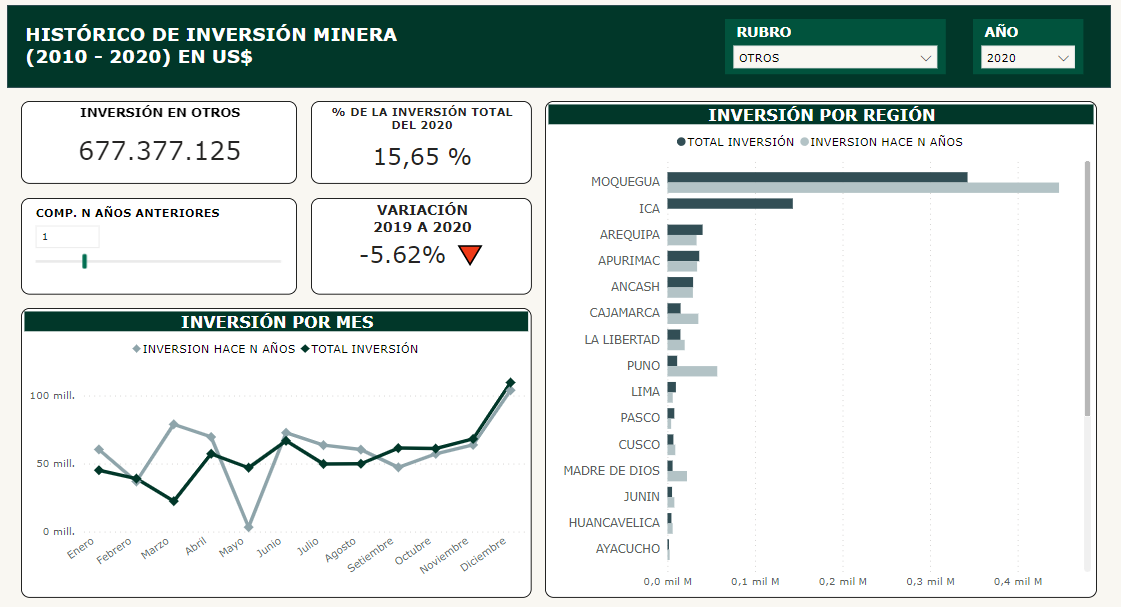

The page's visual inventory and layout, read from the dashboard file:
{"tool":"powerbi","page":{"name":"PRINCIPAL","canvas":[1280,720],"ordinal":0},"visuals":[{"type":"shape","box":[0,16,1280,96],"z":0},{"type":"textbox","box":[16,32,512,80],"z":1000},{"type":"slicer","fields":{"Values":["PARAMETRO_1.PARAMETRO_1"]},"box":[16,240,320,112],"z":2000},{"type":"slicer","fields":{"Values":["INVERSIONES.RUBRO"]},"box":[832,32,256,64],"z":3000},{"type":"lineChart","title":"INVERSIÓN POR MES","fields":{"Category":["CALENDARIO.Mes"],"Y":["MEDIDAS.INVERSION HACE N AÑOS","MEDIDAS.TOTAL INVERSIÓN"]},"box":[16,368,592,336],"z":4000},{"type":"slicer","fields":{"Values":["CALENDARIO.#Año"]},"box":[1120,32,128,64],"z":5000},{"type":"clusteredBarChart","title":"INVERSIÓN POR REGIÓN","fields":{"Category":["INVERSIONES.REGIÓN"],"Y":["MEDIDAS.TOTAL INVERSIÓN","MEDIDAS.INVERSION HACE N AÑOS"]},"box":[624,128,640,576],"z":6000},{"type":"card","fields":{"Values":["MEDIDAS.TOTAL INVERSIÓN"]},"box":[16,128,320,96],"z":7000},{"type":"card","fields":{"Values":["MEDIDAS.VARIACIÓN N_AÑOS"]},"box":[352,240,256,112],"z":8000},{"type":"card","fields":{"Values":["MEDIDAS.% DEL TOTAL INVERTIDO"]},"box":[352,128,256,96],"z":9000}]}

Visuals, with their boxes in screenshot pixels (x1, y1, x2, y2):
shape: select_region(3, 2, 1107, 85)
textbox: select_region(17, 16, 458, 85)
slicer - PARAMETRO_1.PARAMETRO_1: select_region(17, 195, 293, 292)
slicer - INVERSIONES.RUBRO: select_region(720, 16, 941, 71)
"INVERSIÓN POR MES" lineChart: select_region(17, 306, 527, 595)
slicer - CALENDARIO.#Año: select_region(969, 16, 1079, 71)
"INVERSIÓN POR REGIÓN" clusteredBarChart: select_region(541, 99, 1093, 595)
card - MEDIDAS.TOTAL INVERSIÓN: select_region(17, 99, 293, 181)
card - MEDIDAS.VARIACIÓN N_AÑOS: select_region(306, 195, 527, 292)
card - MEDIDAS.% DEL TOTAL INVERTIDO: select_region(306, 99, 527, 181)
